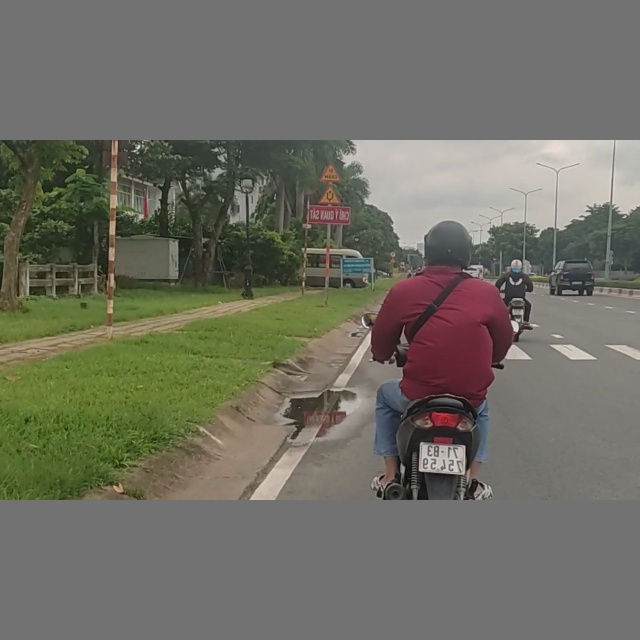W.245a: (319, 164, 341, 181)
W.246a: (316, 184, 339, 205)
